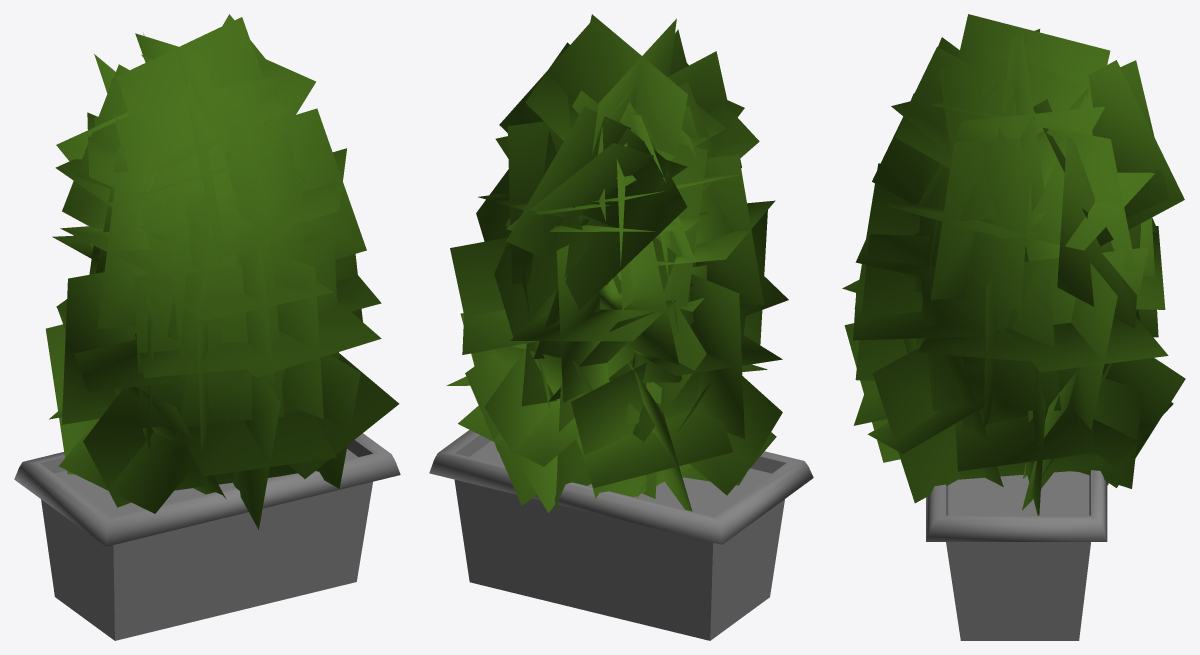
File: SM_plants_box_02.fbx
The picture shows the model from 3 angles, left to right: view 1: azimuth 30°, elevation 25°; view 2: azimuth 150°, elevation 25°; view 3: azimuth 270°, elevation 25°; orthographic projection.
Parts seen in each view (by area): view 1: Box361; view 2: Box361; view 3: Box361.
Part boxes in pixels (x1,y1,x2,y2): Box361: (14,14,400,640); Box361: (429,14,813,640); Box361: (842,14,1185,640).
Size of the model in its own units: 25.25 by 46.51 by 25.92.
